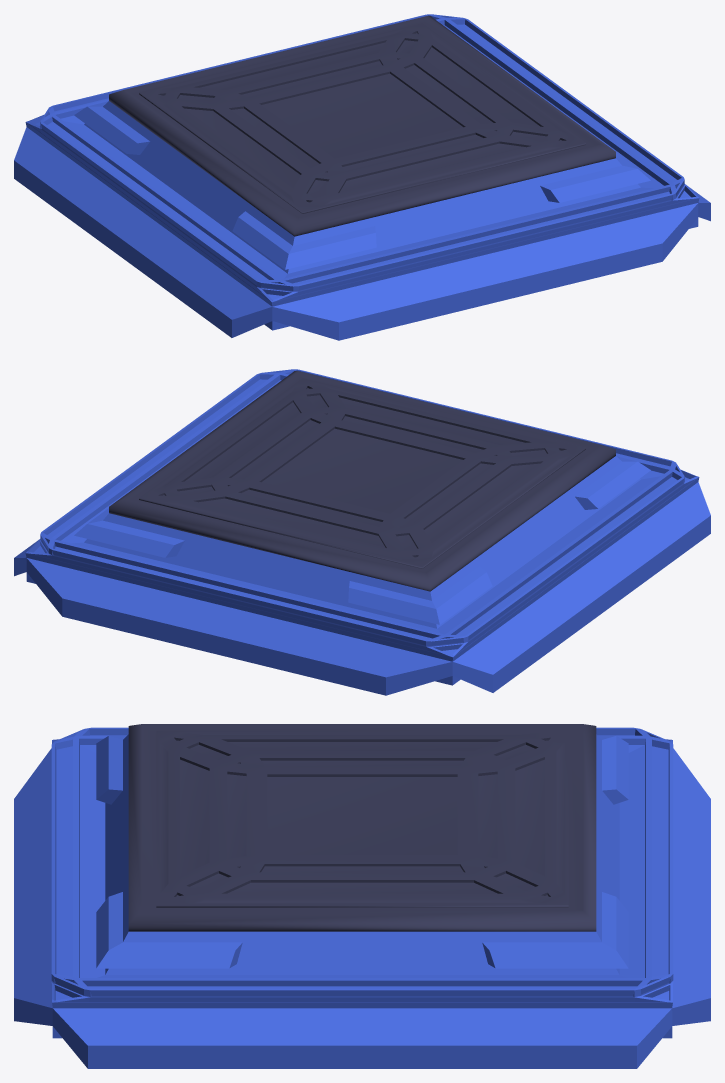
The model's file is PressurePlatMod1.fbx.
The picture shows the model from 3 angles, top to bottom: view 1: azimuth 30°, elevation 25°; view 2: azimuth 150°, elevation 25°; view 3: azimuth 270°, elevation 25°; orthographic projection. The views are drawn at different scales.
Visible parts, largest first — view 1: MainPad, Cube; view 2: MainPad, Cube; view 3: MainPad, Cube.
Boxes of the visible parts, left/top/right/bottom form: MainPad: left=14, top=14, right=710, bottom=340; Cube: left=109, top=16, right=615, bottom=236; MainPad: left=14, top=369, right=710, bottom=695; Cube: left=109, top=371, right=615, bottom=591; MainPad: left=14, top=727, right=710, bottom=1068; Cube: left=128, top=724, right=596, bottom=931.
Size of the model in its own units: 298 by 50.48 by 298.
